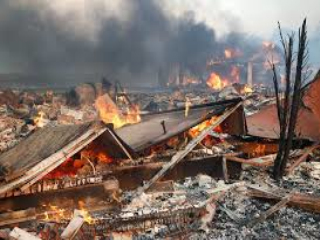fire: (88, 92, 145, 126), (201, 69, 236, 91)
smoke: (127, 7, 263, 69)
